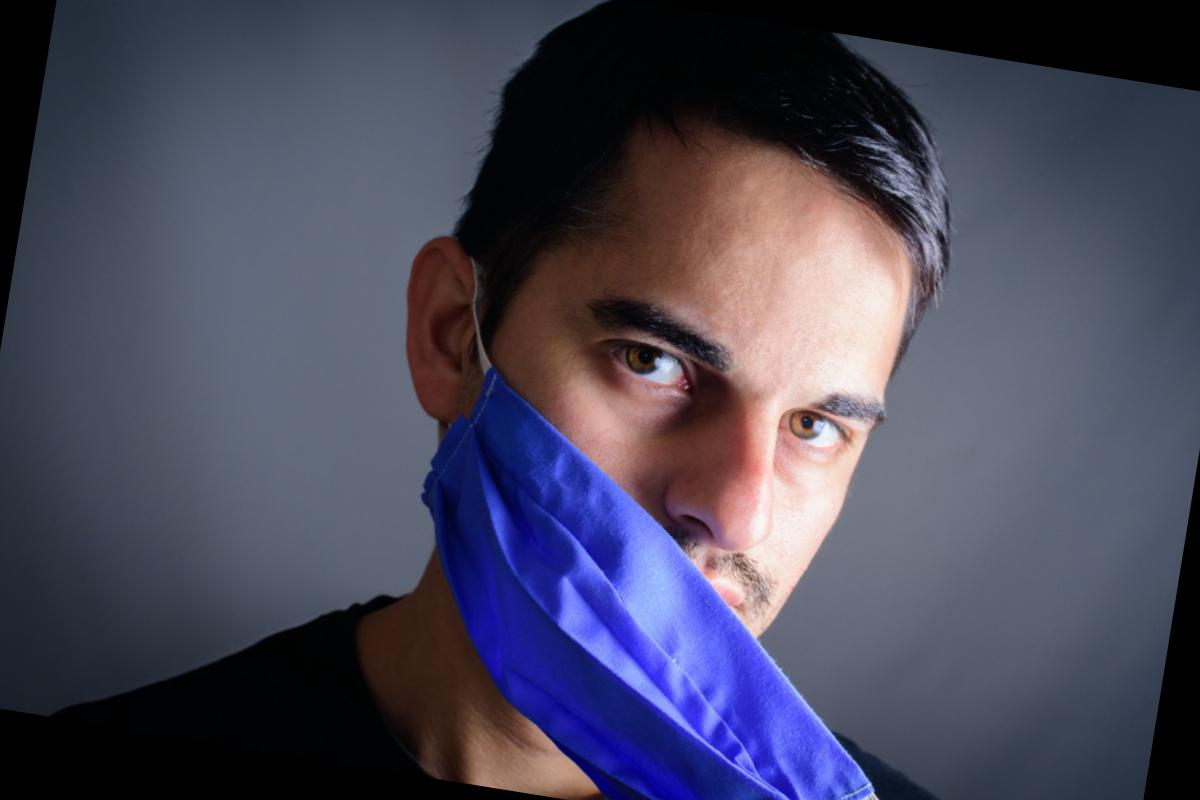mask_weared_incorrect: (433, 248, 917, 628)
